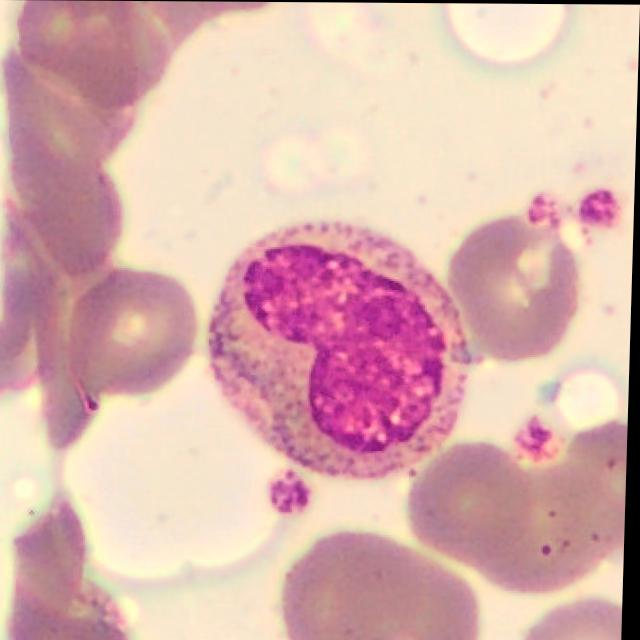Metamielocito: (206, 219, 476, 480)
